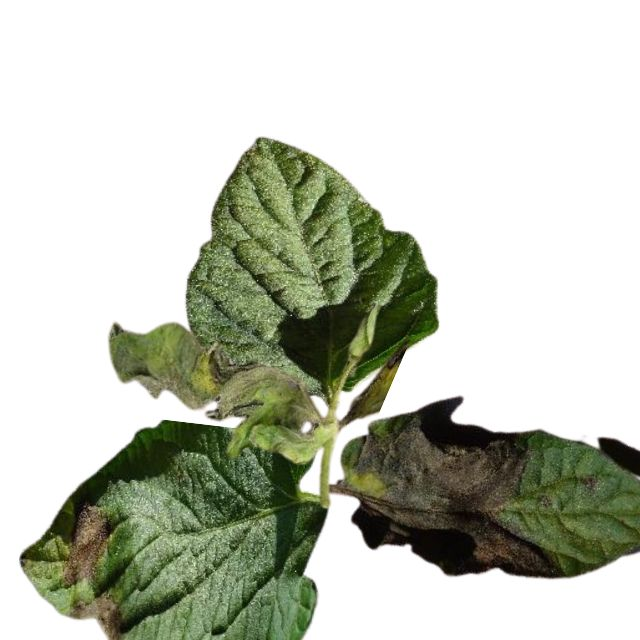Late_blight: (348, 396, 563, 577), (104, 324, 322, 465), (58, 499, 110, 588), (73, 590, 126, 640), (580, 471, 599, 491)
